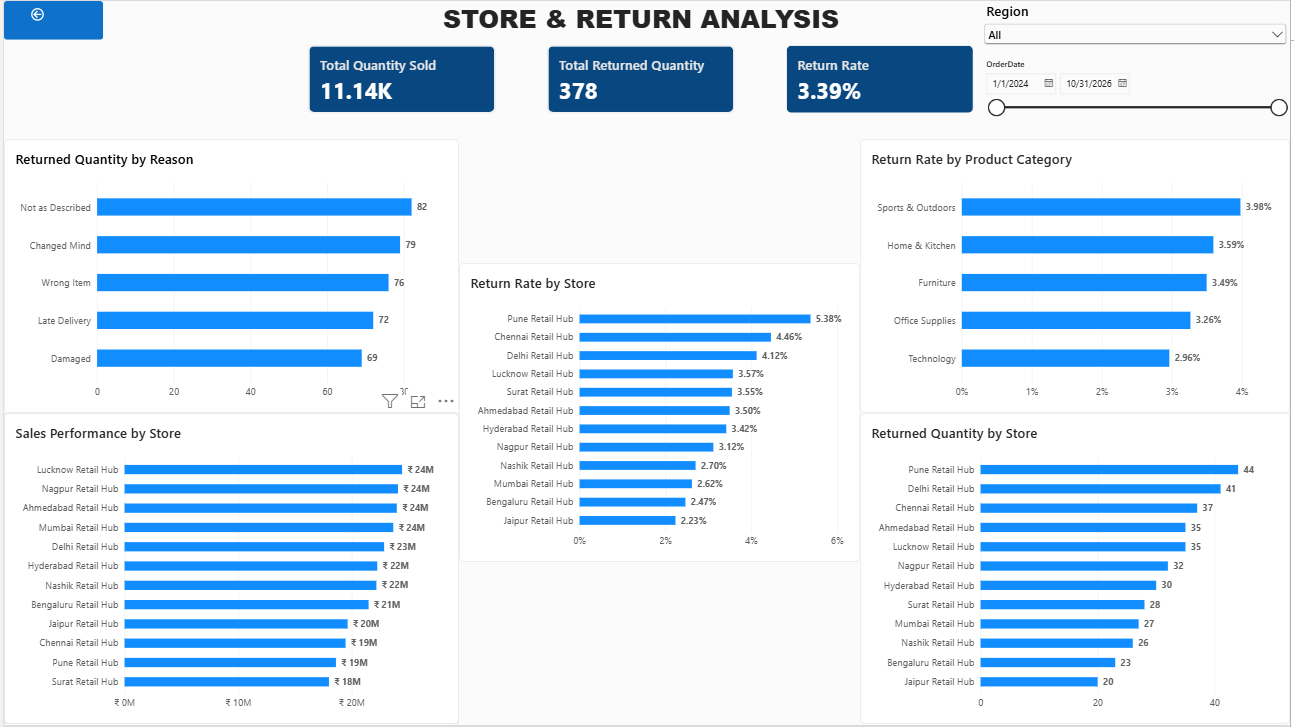

The dashboard page shown, as its layout file describes it:
{"tool":"powerbi","page":{"name":"Store & Returns Analysis","canvas":[1920,1080],"ordinal":3},"visuals":[{"type":"cardVisual","fields":{"Data":["Returns.Total Returned Quantity"]},"box":[810.5,65.7,280.1,102.1],"z":0},{"type":"cardVisual","fields":{"Data":["Returns.Total Quantity Sold"]},"box":[453.7,65.7,280.1,102.1],"z":1},{"type":"cardVisual","fields":{"Data":["Returns.Return Rate"]},"box":[1167.2,65.7,280.1,102.1],"z":2},{"type":"textbox","box":[453.9,0,994.3,65.7],"z":3},{"type":"clusteredBarChart","title":"Returned Quantity by Reason","fields":{"Category":["Returns.ReturnReason"],"Y":["Returns.Total Returned Quantity"]},"box":[0,206,679.3,409.1],"z":4},{"type":"clusteredBarChart","title":"Return Rate by Product Category","fields":{"Category":["Products.Category"],"Y":["Returns.Return Rate"]},"box":[1278,206,642,409.1],"z":5},{"type":"clusteredBarChart","title":"Sales Performance by Store","fields":{"Category":["Stores.StoreName"],"Y":["Orders.Total Sales"]},"box":[0,615.1,679.3,464.3],"z":6},{"type":"clusteredBarChart","title":"Returned Quantity by Store","fields":{"Category":["Stores.StoreName"],"Y":["Returns.Total Returned Quantity"]},"box":[1278,615.1,642,464.3],"z":7},{"type":"clusteredBarChart","title":"Return Rate by Store","fields":{"Category":["Stores.StoreName"],"Y":["Returns.Return Rate"]},"box":[679.3,391.2,598.7,446.4],"z":8},{"type":"slicer","fields":{"Values":["Stores.Region"]},"box":[1458.7,0,461.3,85.1],"z":9},{"type":"slicer","fields":{"Values":["Orders.OrderDate"]},"box":[1458.7,85.1,461.3,120.9],"z":10},{"type":"actionButton","box":[0,0,148,58],"z":11},{"type":"actionButton","box":[0,0,100,40],"z":12}]}

Visuals, with their boxes in screenshot pixels (x1, y1, x2, y2), scaled from the page's 1920x1080 canvas onto the 1294x727 screenshot:
cardVisual - Returns.Total Returned Quantity: bbox=(546, 44, 735, 113)
cardVisual - Returns.Total Quantity Sold: bbox=(306, 44, 495, 113)
cardVisual - Returns.Return Rate: bbox=(787, 44, 975, 113)
textbox: bbox=(306, 0, 976, 44)
"Returned Quantity by Reason" clusteredBarChart: bbox=(0, 139, 458, 414)
"Return Rate by Product Category" clusteredBarChart: bbox=(861, 139, 1293, 414)
"Sales Performance by Store" clusteredBarChart: bbox=(0, 414, 458, 726)
"Returned Quantity by Store" clusteredBarChart: bbox=(861, 414, 1293, 726)
"Return Rate by Store" clusteredBarChart: bbox=(458, 263, 861, 564)
slicer - Stores.Region: bbox=(983, 0, 1293, 57)
slicer - Orders.OrderDate: bbox=(983, 57, 1293, 139)
actionButton: bbox=(0, 0, 100, 39)
actionButton: bbox=(0, 0, 67, 27)
